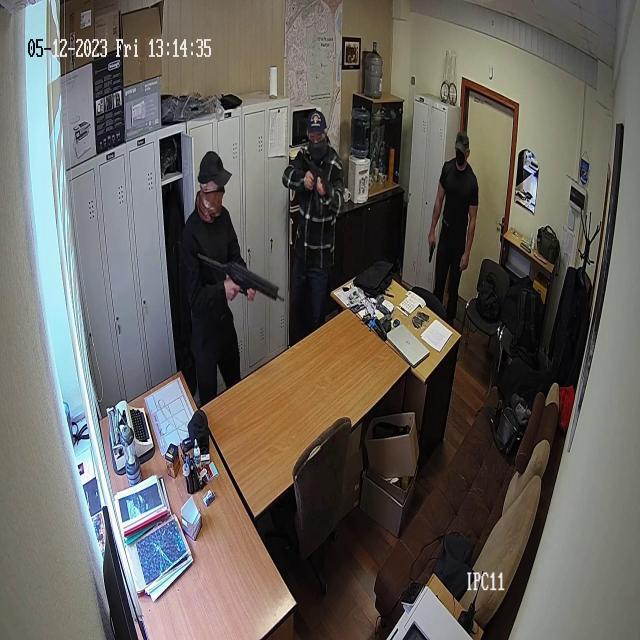pistol: (195, 250, 285, 306), (302, 153, 338, 210), (428, 238, 436, 266)
